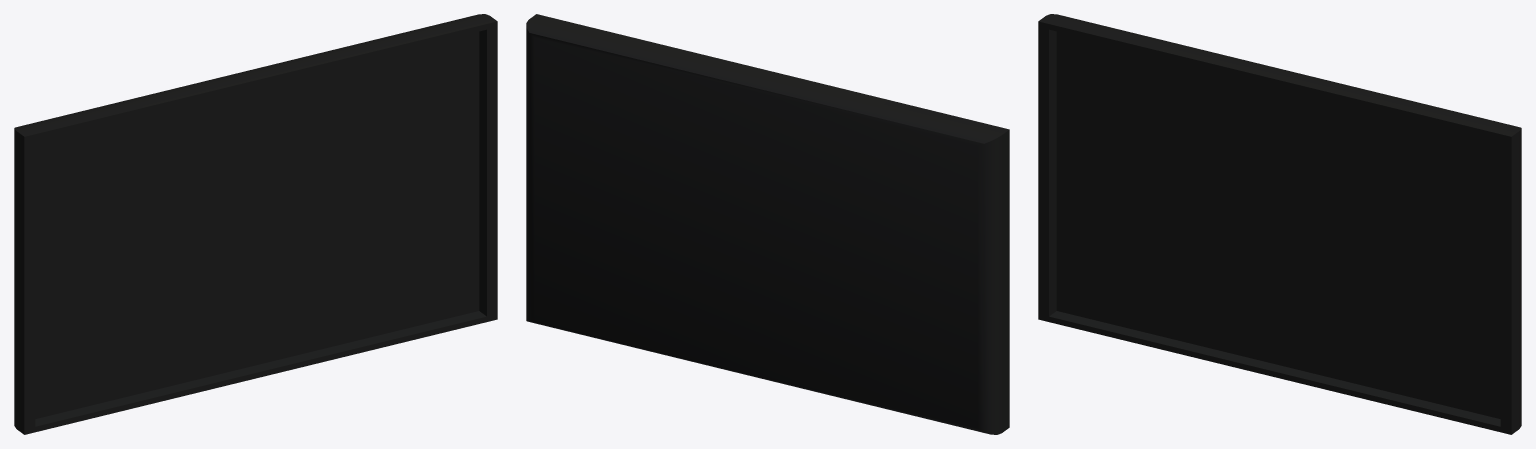
3 renders of one model, left to right at view 1: azimuth 30°, elevation 25°; view 2: azimuth 150°, elevation 25°; view 3: azimuth 330°, elevation 25°, orthographic.
Visible parts, largest first — view 1: Restaurent.004; view 2: Restaurent.004; view 3: Restaurent.004.
Boxes of the visible parts, x1,y1,x2,y2 form: Restaurent.004: [14, 14, 497, 434]; Restaurent.004: [526, 14, 1009, 434]; Restaurent.004: [1038, 14, 1521, 434].
Size of the model in its own units: 298 by 180 by 18.48.
